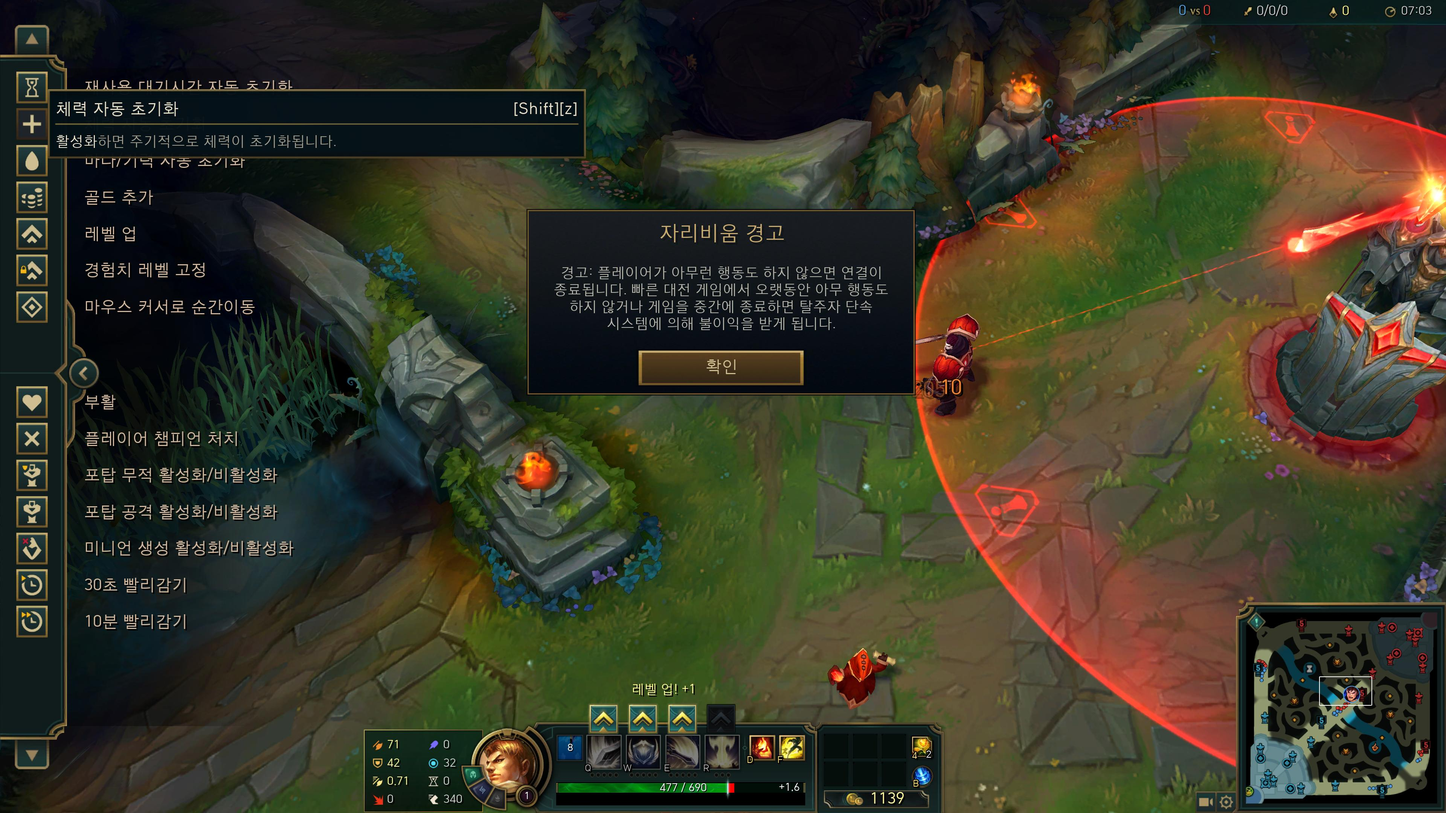enemy-caster-minion: (828, 647, 895, 708)
